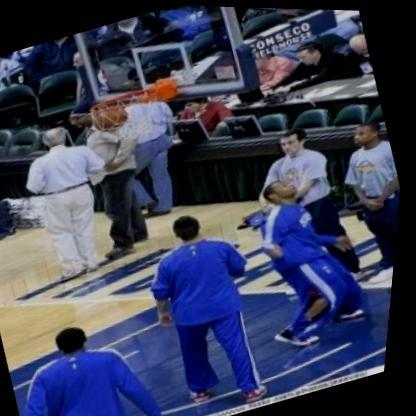basketball: (88, 98, 136, 140)
